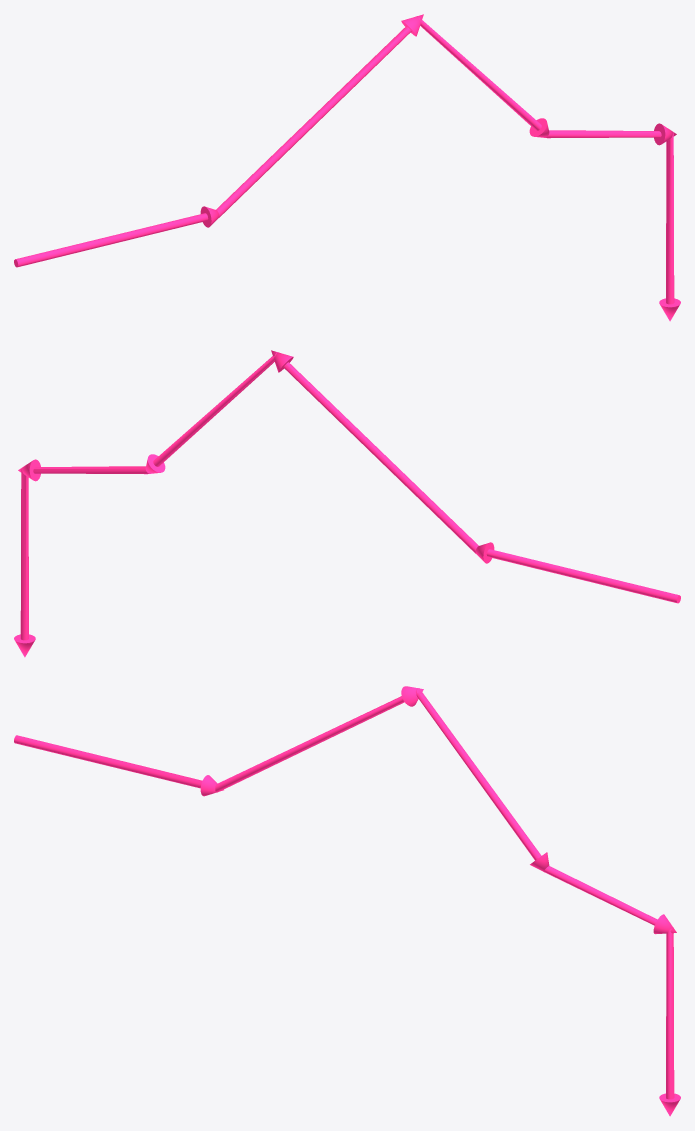
File: flywheel_assembly_flow.glb
3 views of the same model, one above another, from view 1: azimuth 30°, elevation 25°; view 2: azimuth 150°, elevation 25°; view 3: azimuth 330°, elevation 25° (orthographic).
Visible parts, largest first — view 1: power; view 2: power; view 3: power.
Boxes of the visible parts, bbox=[...] form: power: bbox=[14, 14, 680, 321]; power: bbox=[14, 350, 680, 657]; power: bbox=[14, 686, 680, 1116].
Bounding box in the file's own units: 1.82 × 0.9614 × 0.052.
